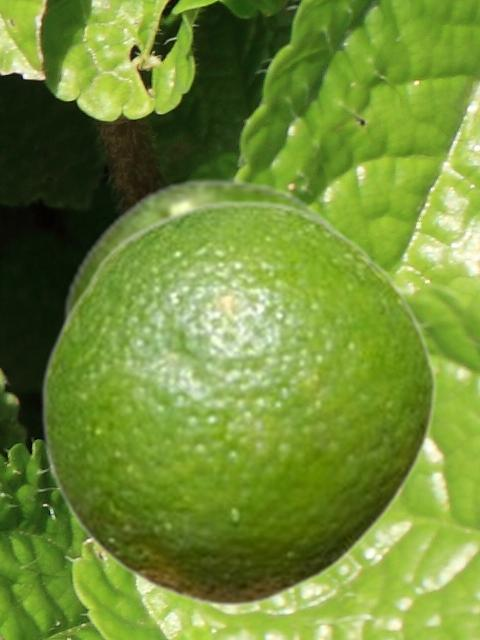calamansi: (40, 199, 436, 608), (61, 176, 361, 321)
